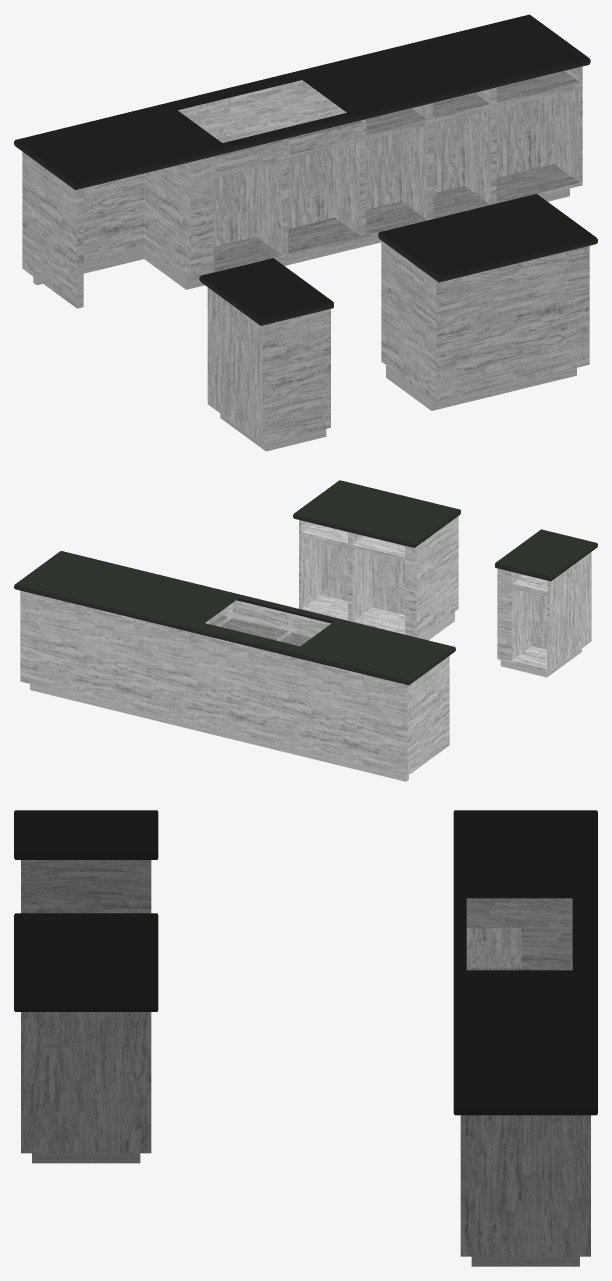
The model's file is StandardCounterHeightWidth_f4ec5824.obj.
3 renders of one model, top to bottom at view 1: azimuth 30°, elevation 25°; view 2: azimuth 150°, elevation 25°; view 3: azimuth 270°, elevation 25°, orthographic. The views are drawn at different scales.
Visible parts, largest first — view 1: StandardCounterHeightWidth_f4ec5824; view 2: StandardCounterHeightWidth_f4ec5824; view 3: StandardCounterHeightWidth_f4ec5824.
Part boxes in pixels (x1,y1,x2,y2): StandardCounterHeightWidth_f4ec5824: (14, 14, 597, 451); StandardCounterHeightWidth_f4ec5824: (14, 480, 597, 781); StandardCounterHeightWidth_f4ec5824: (14, 810, 597, 1266).
Bounding box in the file's own units: 3.47 × 0.9 × 2.87.
